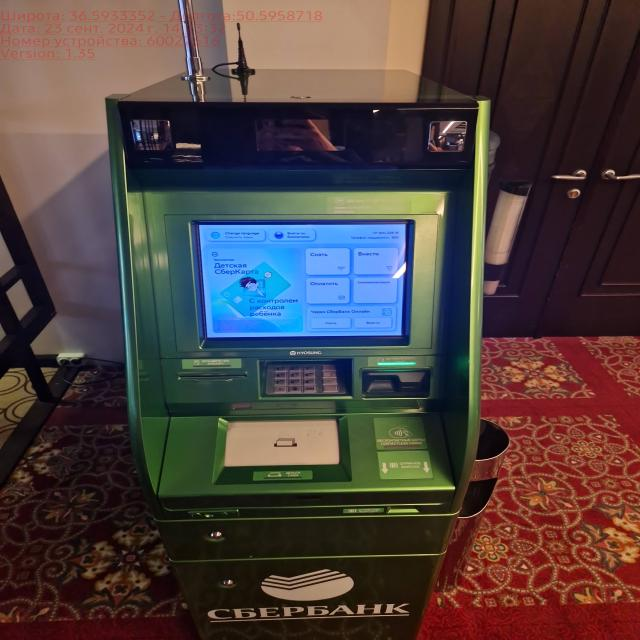bank: (94, 61, 485, 640)
